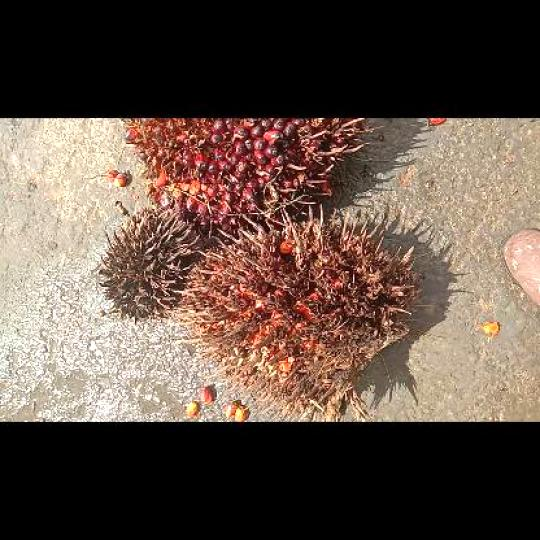masak: (121, 117, 372, 233)
terlalu masak: (174, 202, 418, 420)
